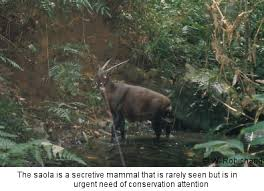sao_la: (93, 59, 173, 136)
